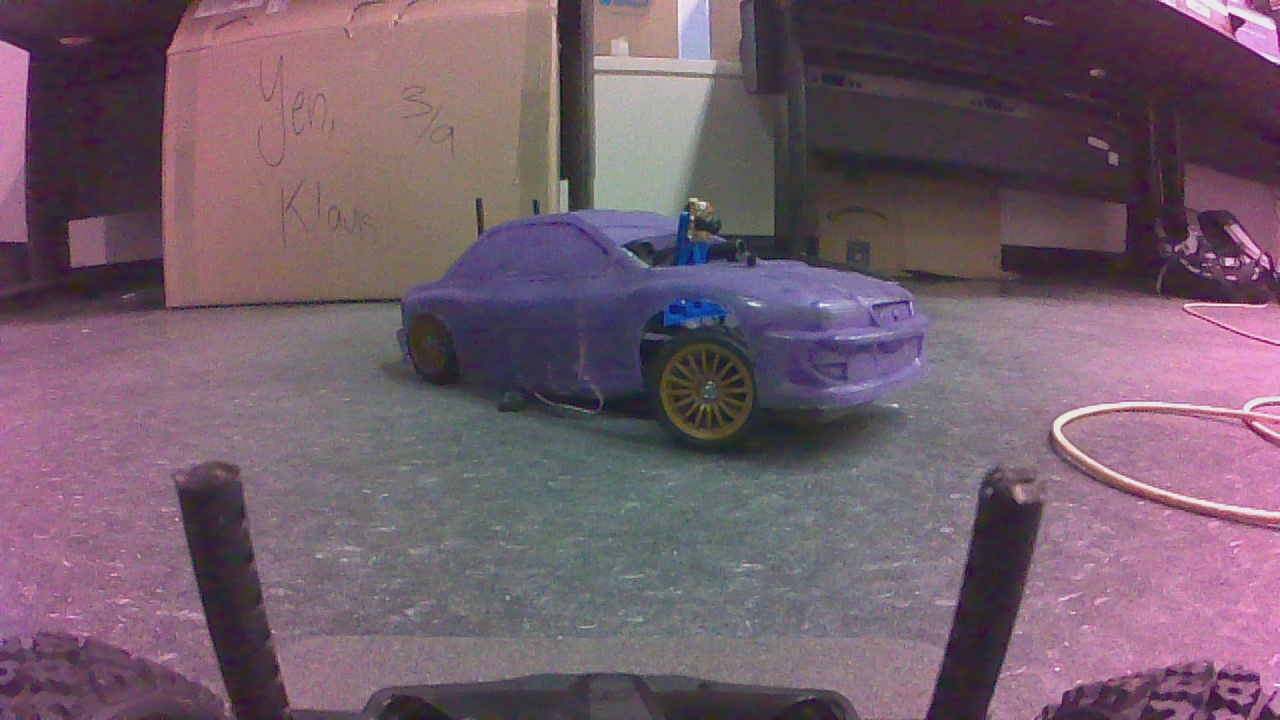opponent: (403, 197, 929, 456)
